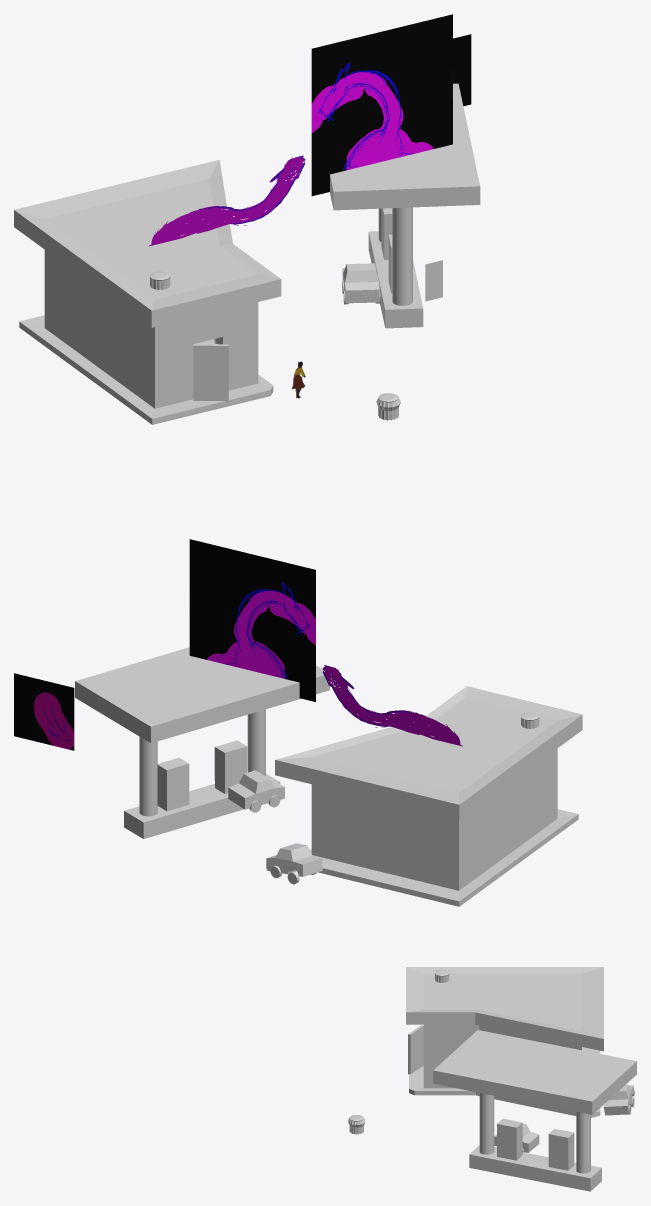
3 views of the same model, one above another, from view 1: azimuth 30°, elevation 25°; view 2: azimuth 150°, elevation 25°; view 3: azimuth 270°, elevation 25° (orthographic). The views are drawn at different scales.
Parts seen in each view (by area): view 1: building.002, right_dragon_front.002, carport_roof.002, left_dragon.001, carport_base.002, door.002, carport_pillar_near.002, car_body.002, right_dragon_tail.002, chester.002; view 2: building.002, right_dragon_front.002, carport_roof.002, carport_base.002, right_dragon_tail.002, left_dragon.001, carport_pillar_far.002, car_body.002, wrecked_car_body.002, carport_pillar_near.002; view 3: building.002, carport_roof.002, carport_base.002, carport_pillar_near.002, carport_pillar_far.002, door.002, wrecked_car_body.002, car_body.002.
Part boxes in pixels (left/top/right/bottom): building.002: left=14, top=159, right=281, bottom=424; right_dragon_front.002: left=311, top=14, right=452, bottom=196; carport_roof.002: left=330, top=83, right=480, bottom=210; left_dragon.001: left=149, top=155, right=305, bottom=246; carport_base.002: left=368, top=208, right=423, bottom=328; door.002: left=193, top=344, right=228, bottom=401; carport_pillar_near.002: left=392, top=207, right=412, bottom=305; car_body.002: left=342, top=263, right=379, bottom=303; right_dragon_tail.002: left=453, top=34, right=471, bottom=106; chester.002: left=425, top=260, right=442, bottom=301; building.002: left=275, top=686, right=582, bottom=906; right_dragon_front.002: left=189, top=539, right=315, bottom=701; carport_roof.002: left=75, top=647, right=329, bottom=743; carport_base.002: left=124, top=740, right=280, bottom=838; right_dragon_tail.002: left=14, top=673, right=74, bottom=750; left_dragon.001: left=322, top=665, right=462, bottom=746; carport_pillar_far.002: left=139, top=736, right=157, bottom=816; car_body.002: left=228, top=770, right=284, bottom=809; wrecked_car_body.002: left=266, top=843, right=322, bottom=876; carport_pillar_near.002: left=247, top=709, right=265, bottom=776; building.002: left=406, top=967, right=603, bottom=1117; carport_roof.002: left=433, top=1030, right=636, bottom=1114; carport_base.002: left=469, top=1118, right=601, bottom=1191; carport_pillar_near.002: left=479, top=1093, right=494, bottom=1154; carport_pillar_far.002: left=576, top=1112, right=590, bottom=1173; door.002: left=408, top=1025, right=423, bottom=1074; wrecked_car_body.002: left=603, top=1084, right=634, bottom=1115; car_body.002: left=494, top=1123, right=539, bottom=1152.
Size of what is drawn, in the model's own units: 5377 by 3080 by 8463.
